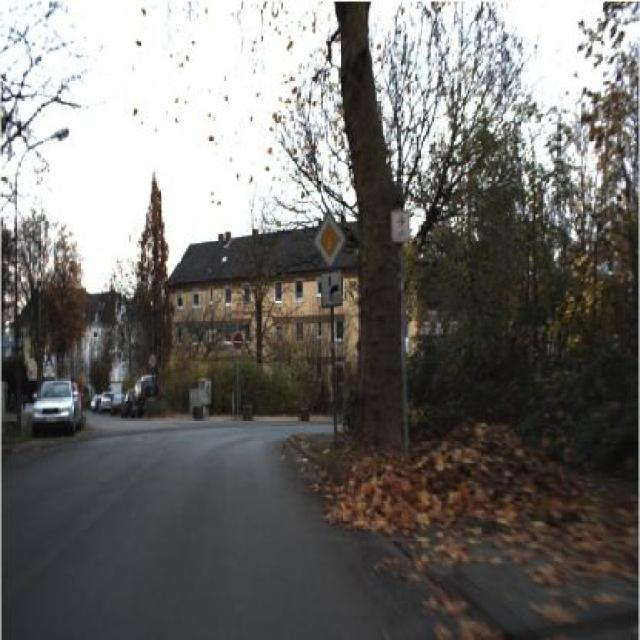forb_speed_over_30: (146, 351, 159, 371)
